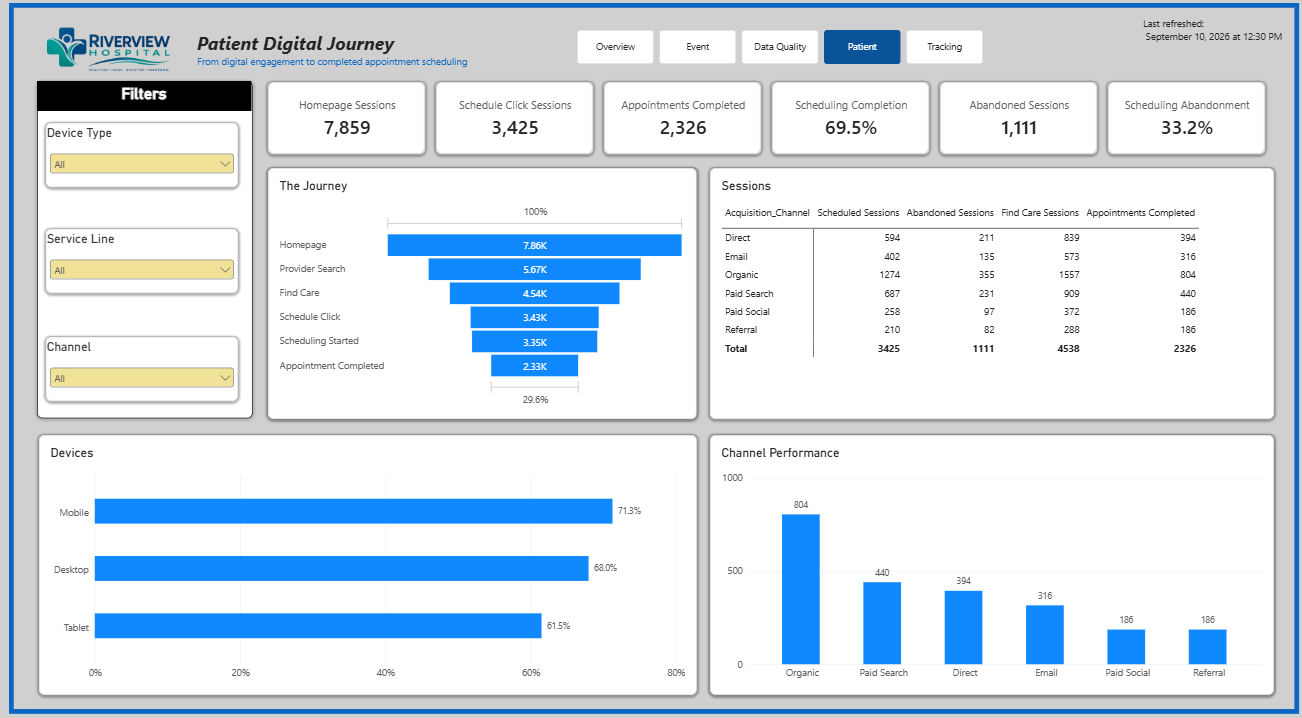

This screenshot's page, from the dashboard's own definition file:
{"tool":"powerbi","page":{"name":"Patient ","canvas":[1920,1080],"ordinal":3},"visuals":[{"type":"shape","box":[18.2,11.6,1896.7,1045],"z":0},{"type":"textbox","box":[58.2,126.4,317,495.5],"z":1000},{"type":"textbox","title":"Filters","box":[59,127,315,44.1],"z":2000},{"type":"textbox","box":[294.4,51.3,502.7,62.8],"z":3000},{"type":"cardVisual","title":"Governed Claim %","fields":{"Data":["reporting vw_DigitalJourneyDaily.Scheduling Completion %"]},"box":[1139.5,127.9,231,106],"z":4000},{"type":"cardVisual","title":"Governed Claim %","fields":{"Data":["reporting vw_DigitalJourneyDaily.Homepage Sessions"]},"box":[398.6,127.9,231,106],"z":5000},{"type":"cardVisual","title":"Governed Claim %","fields":{"Data":["reporting vw_DigitalJourneyDaily.Appointments Completed"]},"box":[892.5,127.9,231,106],"z":6000},{"type":"cardVisual","title":"Governed Claim %","fields":{"Data":["reporting vw_DigitalJourneyDaily.Schedule Click Sessions"]},"box":[645.6,127.9,231,106],"z":7000},{"type":"cardVisual","title":"Governed Claim %","fields":{"Data":["reporting vw_DigitalJourneyDaily.Abandoned Sessions"]},"box":[1386.5,127.9,231,106],"z":8000},{"type":"cardVisual","title":"Governed Claim %","fields":{"Data":["reporting vw_DigitalJourneyDaily.Scheduling Abandonment %"]},"box":[1633.5,127.9,231,106.4],"z":9000},{"type":"clusteredBarChart","title":"Devices","fields":{"Category":["reporting vw_DigitalJourneyDaily.Device_Type"],"Y":["reporting vw_DigitalJourneyDaily.Scheduling Completion %"]},"box":[61.2,646.6,967.4,382],"z":10000},{"type":"pivotTable","title":"Sessions","fields":{"Rows":["reporting vw_DigitalJourneyDaily.Acquisition_Channel"],"Values":["reporting vw_DigitalJourneyDaily.Schedule Click Sessions","Sum(reporting vw_DigitalJourneyDaily.Abandoned_Sessions)","reporting vw_DigitalJourneyDaily.Find Care Sessions","reporting vw_DigitalJourneyDaily.Appointments Completed"]},"box":[1048.5,254.7,828.5,368.8],"z":11000},{"type":"clusteredColumnChart","title":"Channel Performance","fields":{"Category":["reporting vw_DigitalJourneyDaily.Acquisition_Channel"],"Y":["reporting vw_DigitalJourneyDaily.Appointments Completed"]},"box":[1048.5,646.6,828.5,382],"z":12000},{"type":"image","box":[35,11.7,255,133.3],"z":13000},{"type":"pageNavigator","box":[852.3,51.9,600,50],"z":14000},{"type":"textbox","box":[1684.4,32.7,210.6,61.7],"z":15000},{"type":"funnel","title":"The Journey","fields":{"Category":["Journey Steps.JourneyStep"],"Y":["reporting vw_DigitalJourneyDaily.Journey Step Sessions"]},"box":[398.6,254.7,630.1,368.8],"z":16000},{"type":"slicer","title":"Device Type","fields":{"Values":["reporting vw_DigitalJourneyDaily.Device_Type"]},"box":[72,188,282,94.3],"z":17000},{"type":"slicer","title":"Service Line","fields":{"Values":["reporting vw_DigitalJourneyDaily.Service_Line"]},"box":[72,344,282,94.3],"z":18000},{"type":"slicer","title":"Channel","fields":{"Values":["reporting vw_DigitalJourneyDaily.Acquisition_Channel"]},"box":[72,503,282,94.3],"z":19000}]}

Visuals, with their boxes in screenshot pixels (x1, y1, x2, y2), scaled from the page's 1920x1080 canvas onto the 1302x718 screenshot:
shape: (12,8,1299,702)
textbox: (39,84,254,413)
"Filters" textbox: (40,84,254,114)
textbox: (200,34,541,76)
"Governed Claim %" cardVisual: (773,85,929,156)
"Governed Claim %" cardVisual: (270,85,427,156)
"Governed Claim %" cardVisual: (605,85,762,156)
"Governed Claim %" cardVisual: (438,85,594,156)
"Governed Claim %" cardVisual: (940,85,1097,156)
"Governed Claim %" cardVisual: (1108,85,1264,156)
"Devices" clusteredBarChart: (42,430,698,684)
"Sessions" pivotTable: (711,169,1273,415)
"Channel Performance" clusteredColumnChart: (711,430,1273,684)
image: (24,8,197,96)
pageNavigator: (578,35,985,68)
textbox: (1142,22,1285,63)
"The Journey" funnel: (270,169,698,415)
"Device Type" slicer: (49,125,240,188)
"Service Line" slicer: (49,229,240,291)
"Channel" slicer: (49,334,240,397)
